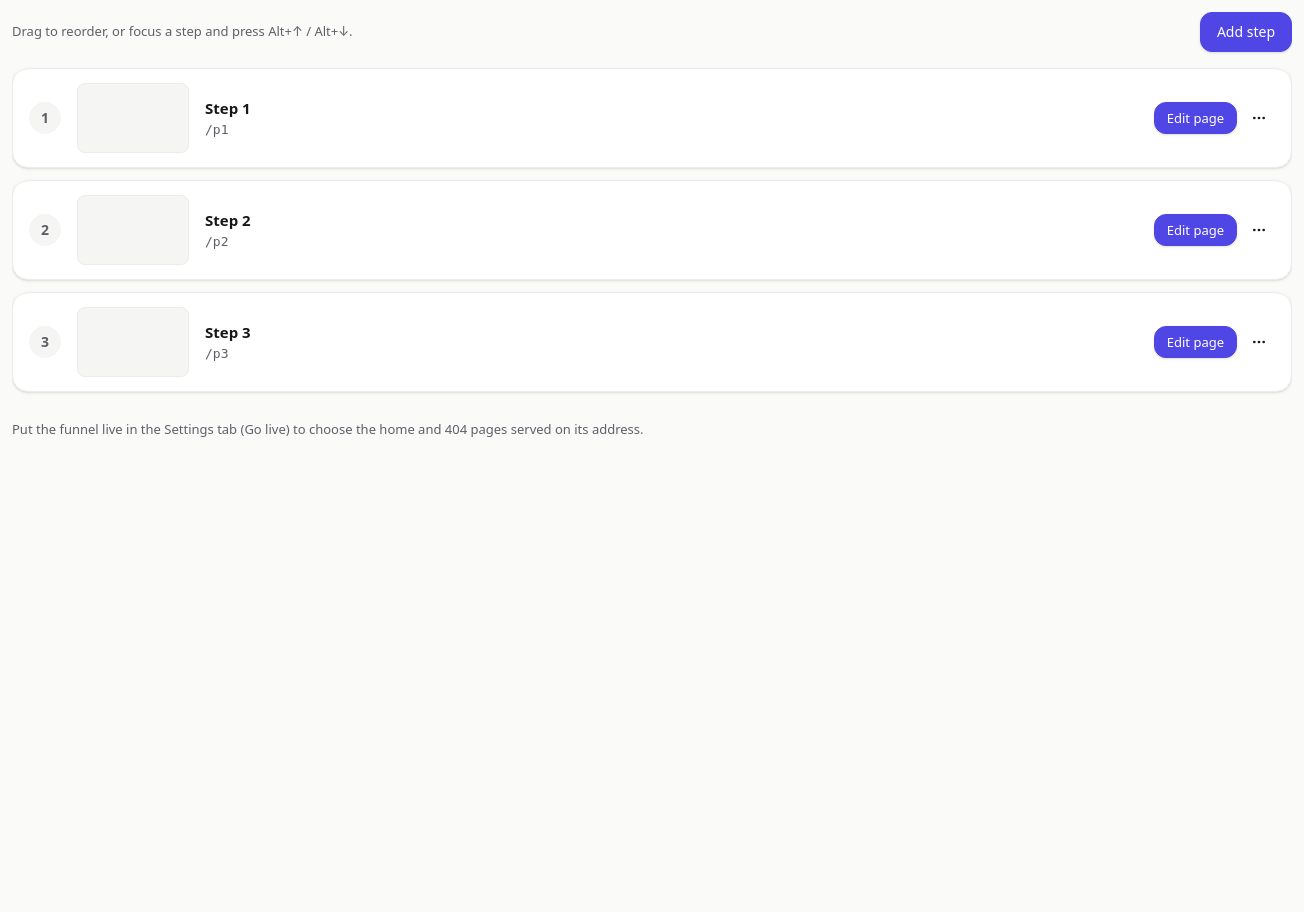
Test: step list: keyboard reordering › plain arrows do nothing, and a server error restores the original order with an alert
The image size is (1304, 912).
Press ArrowDown in the list item with class "step-row" showing "1 Step 1 /p1 Edit page", box [12,68,1292,168]
Click the button named "More actions for Step 1".
click(1259, 118)  # box [1243,102,1275,134]
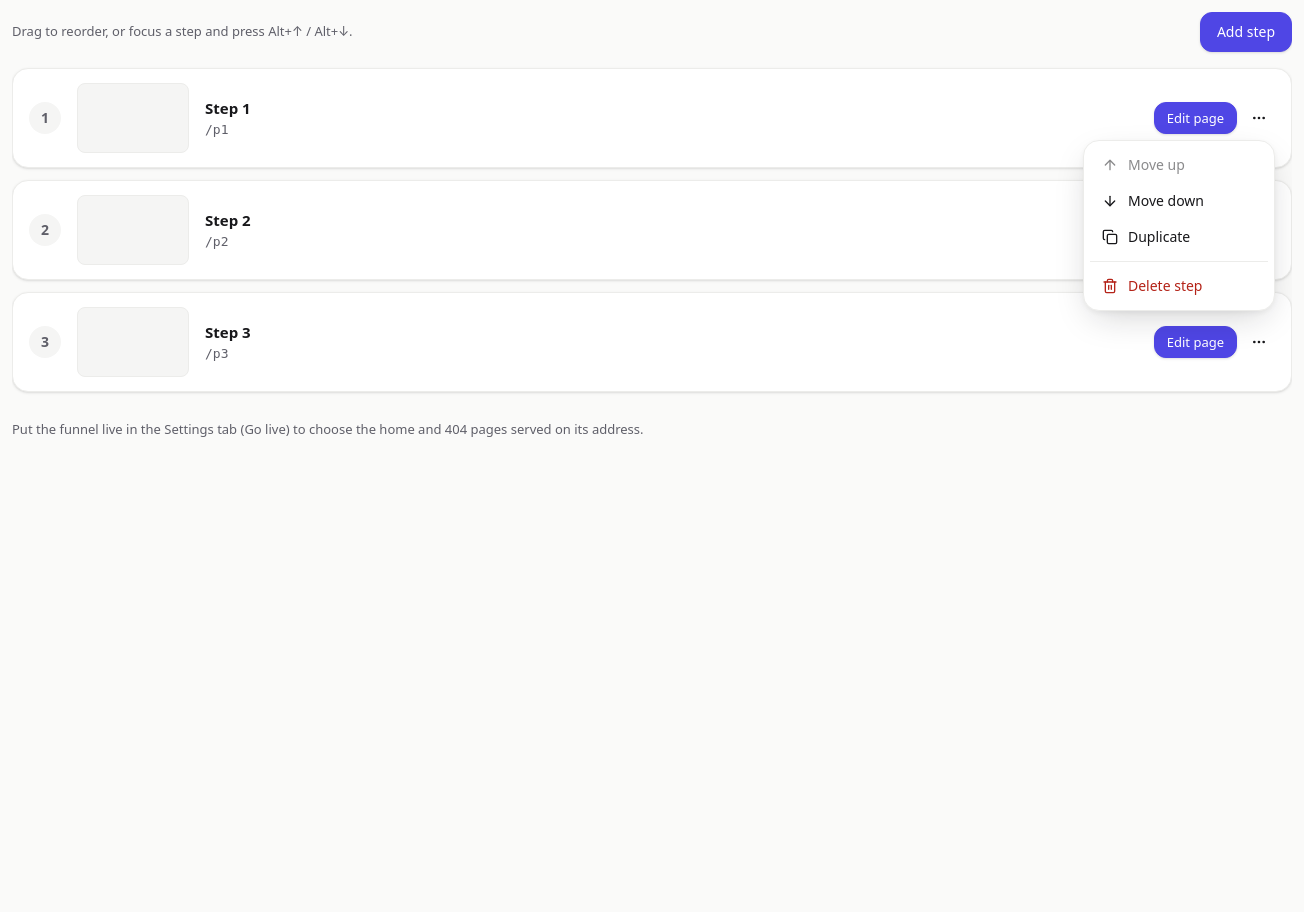
Click the menu item "Move down".
click(1153, 200)  # box [1102,191,1204,210]
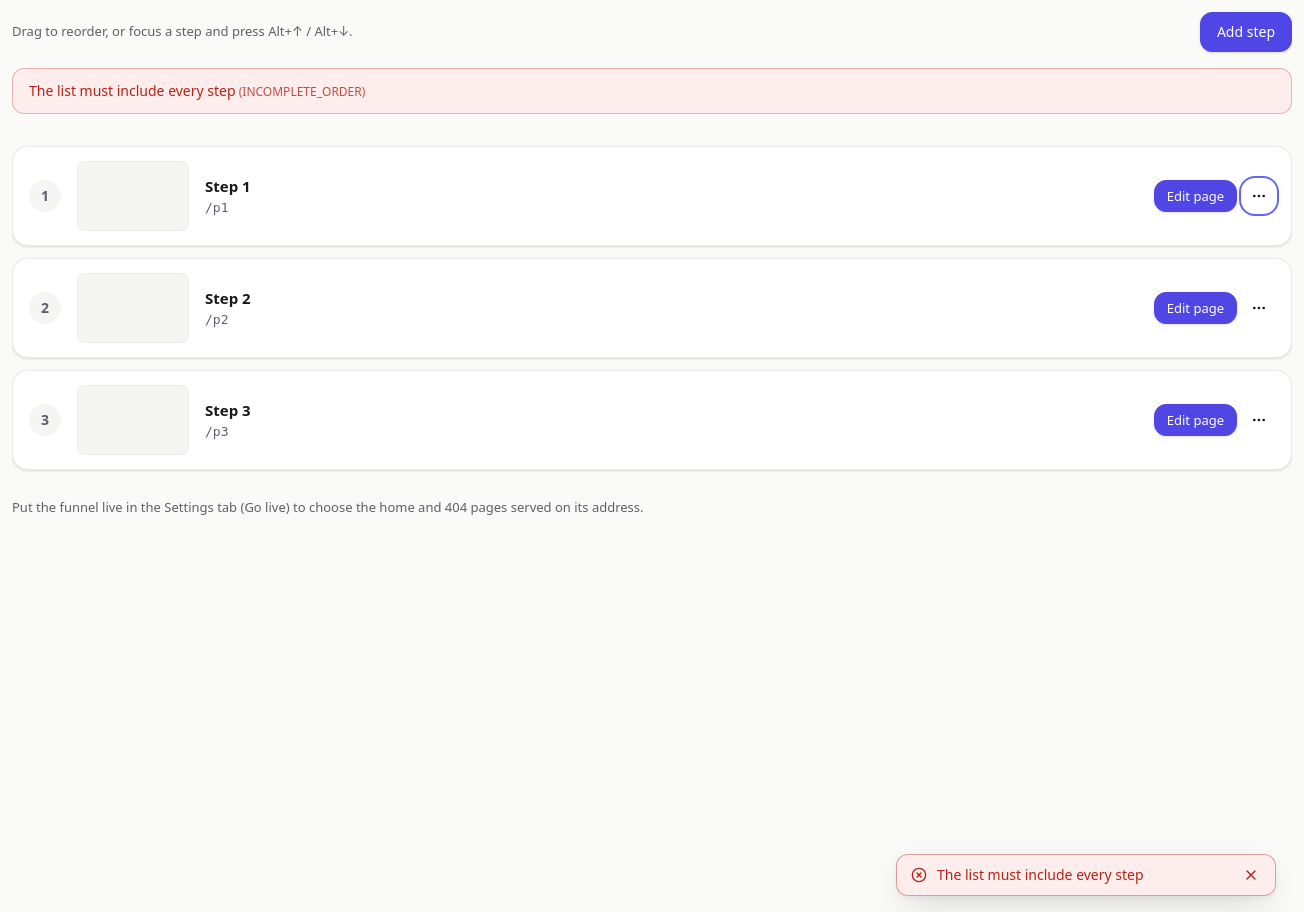
Check: the message "The list must include every step (INCOMPLETE_ORDER)" is shown, box [12,68,1292,114]
